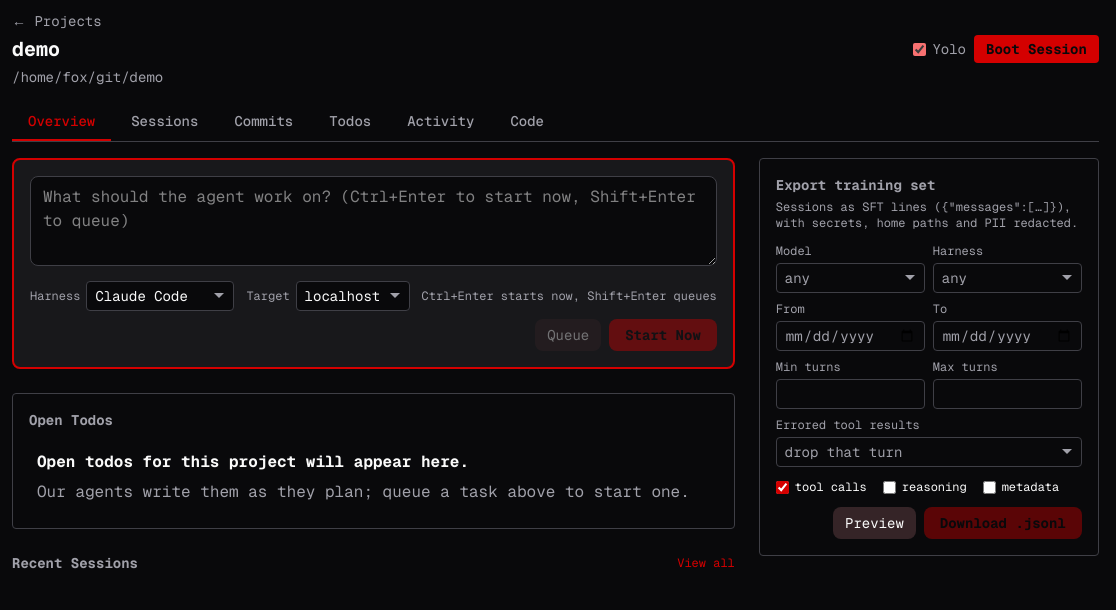
Test: starting work › shows the command to attach to what it just started
Click the button "Boot Session" at (1036, 49), box [974,35,1099,63]
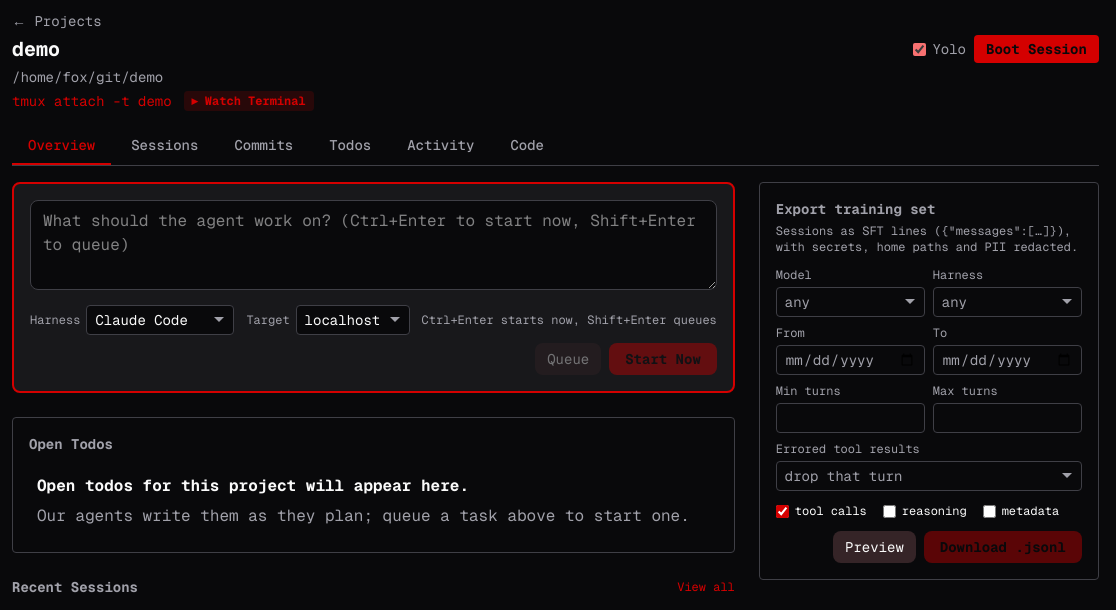
Expected: the text "tmux attach -t demo" is shown, [12,91,172,111]
